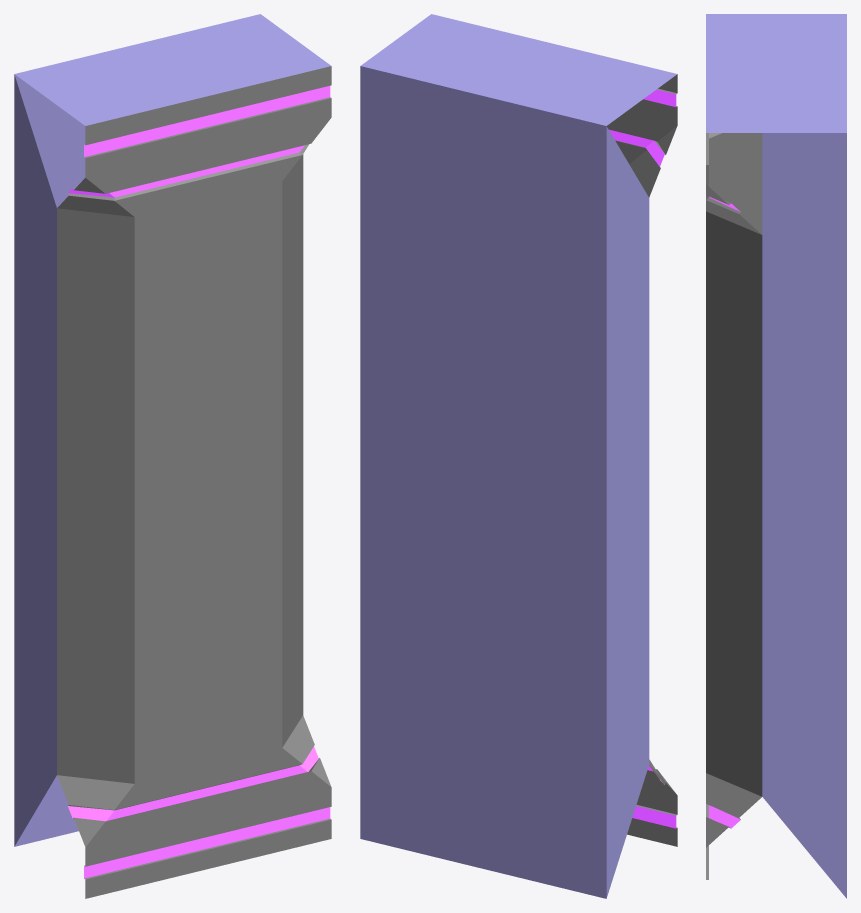
Rendered from WallFlatShort.FBX.
The picture shows the model from 3 angles, left to right: view 1: azimuth 30°, elevation 25°; view 2: azimuth 150°, elevation 25°; view 3: azimuth 270°, elevation 25°; orthographic projection.
Visible parts, largest first — view 1: WallFlatShort; view 2: WallFlatShort; view 3: WallFlatShort.
Part boxes in pixels (x1=…): WallFlatShort: x1=14, y1=14, x2=331, y2=898; WallFlatShort: x1=360, y1=14, x2=677, y2=898; WallFlatShort: x1=706, y1=14, x2=846, y2=898.
Size of the model in its own units: 100 by 50 by 300.
